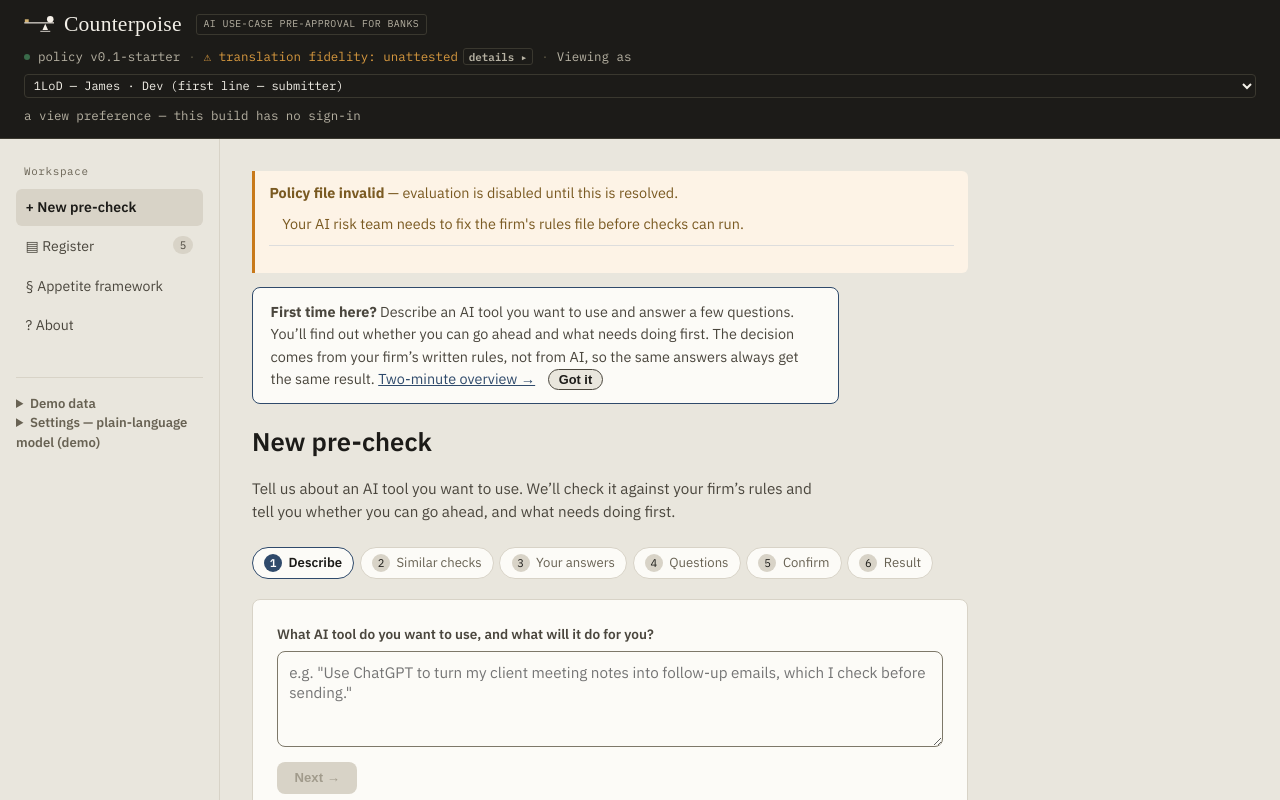
Test case: Browser Back button actually navigates within the app (explore-010 D-001) › TC-D001-04: the in-app "← register" link and the browser Back button end up in the same place
The image size is (1280, 800).
Click the text "▤ Register". click: (60, 246)
box: 26,238 -> 94,256
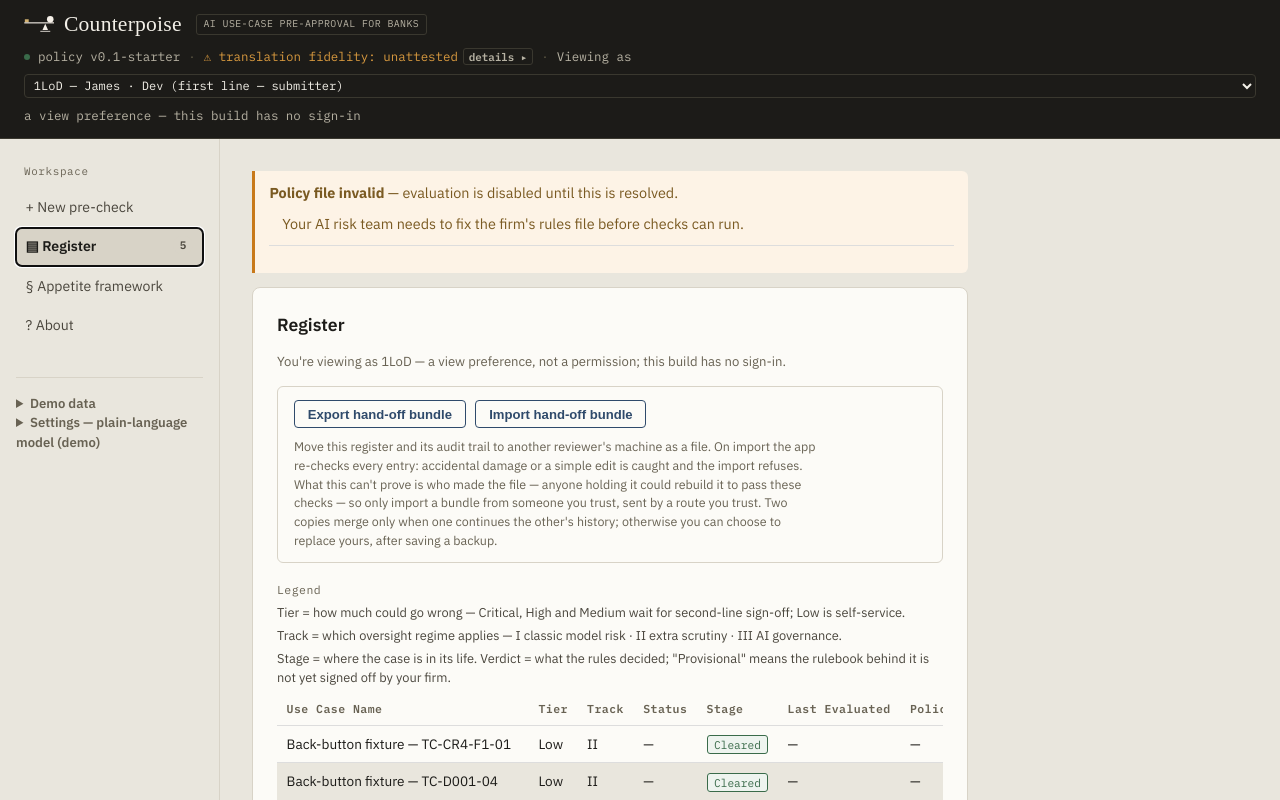
expect the button "Back-button fixture — TC-D001-04" is shown: met
Click the button "Back-button fixture — TC-D001-04". click: (392, 782)
box: 287,771 -> 498,792
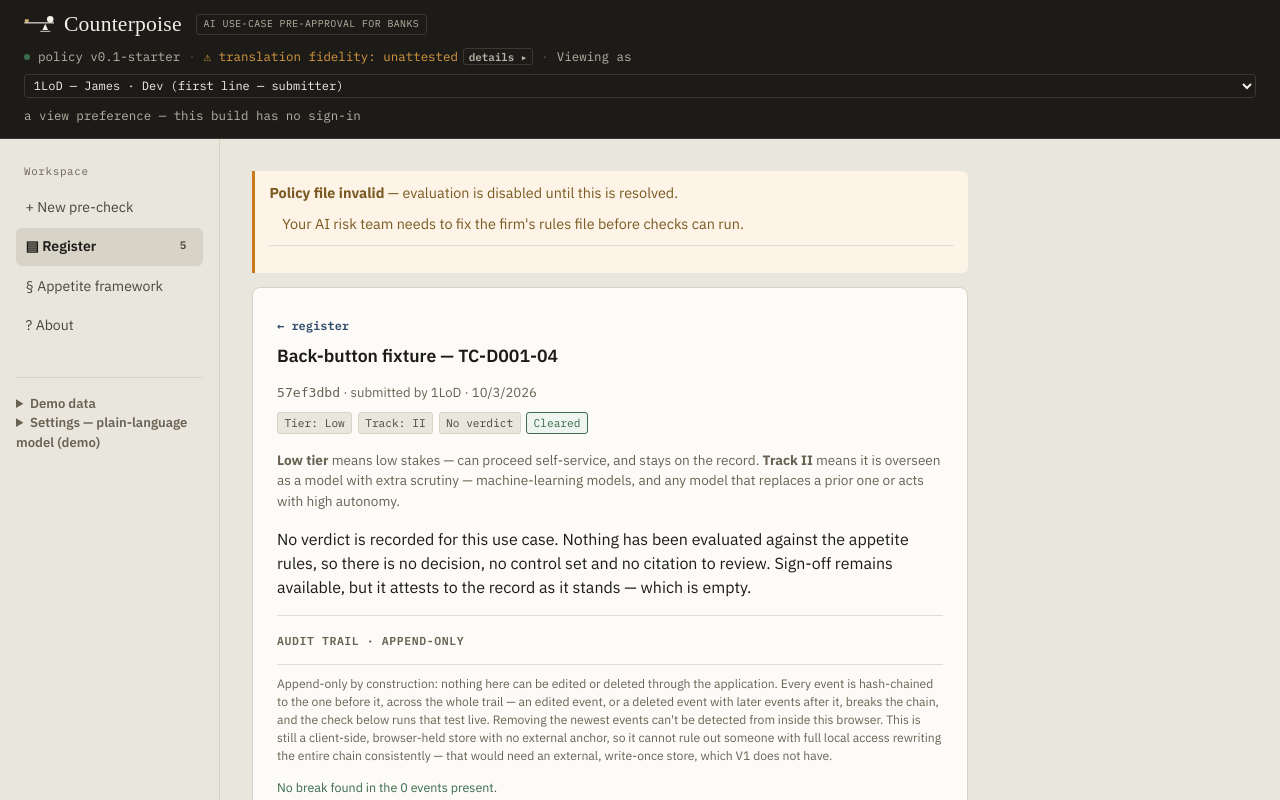
Click the button "← register". click: (313, 326)
box: 277,318 -> 349,333
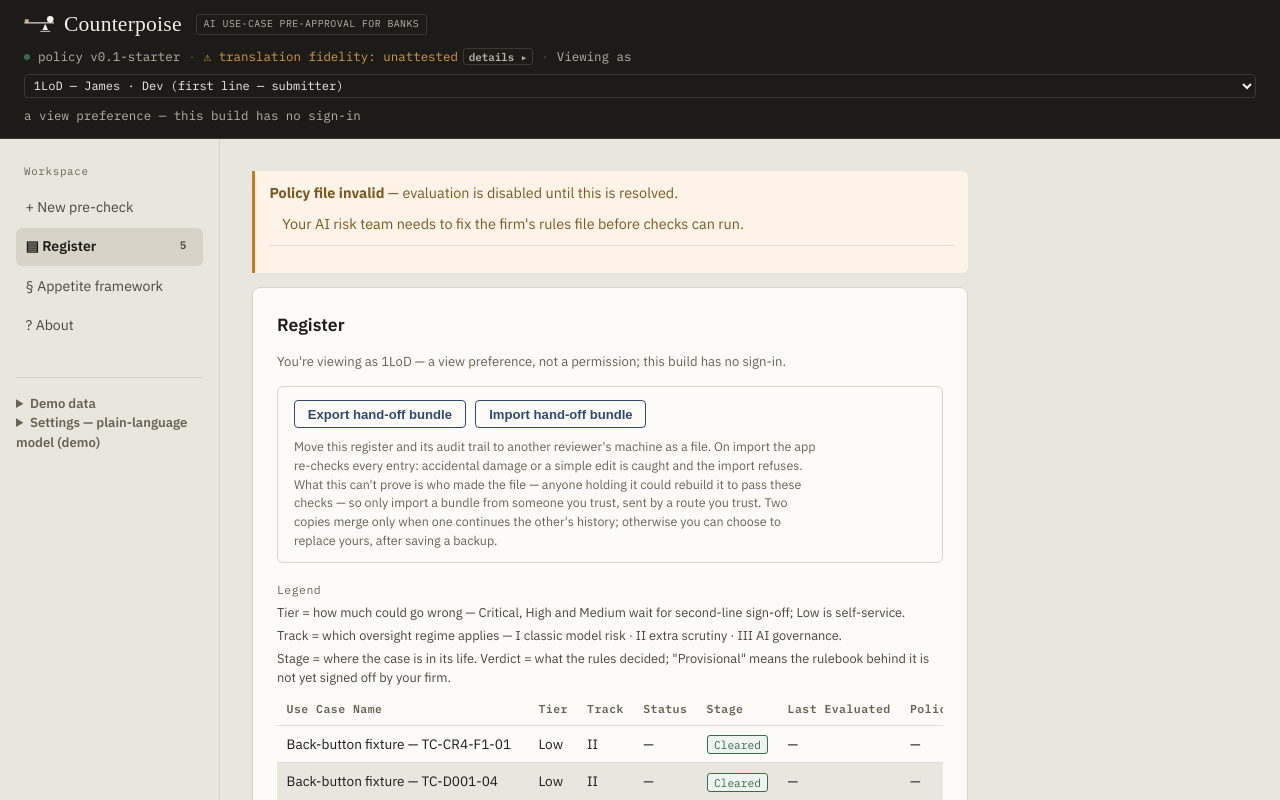
expect the button "Back-button fixture — TC-D001-04" is shown: met, box 287,771 -> 498,792
expect the heading "Register" is shown: met, box 277,313 -> 345,336
